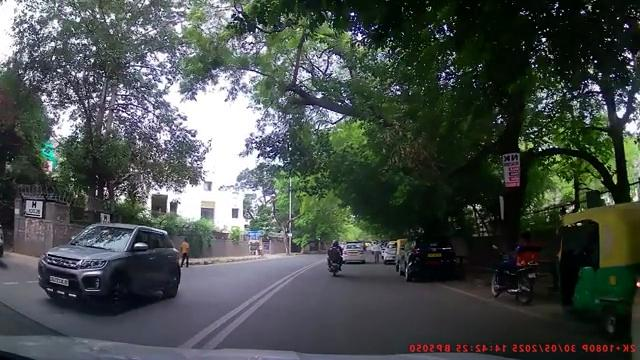motorcycle_with_helmet: (326, 239, 344, 276)
